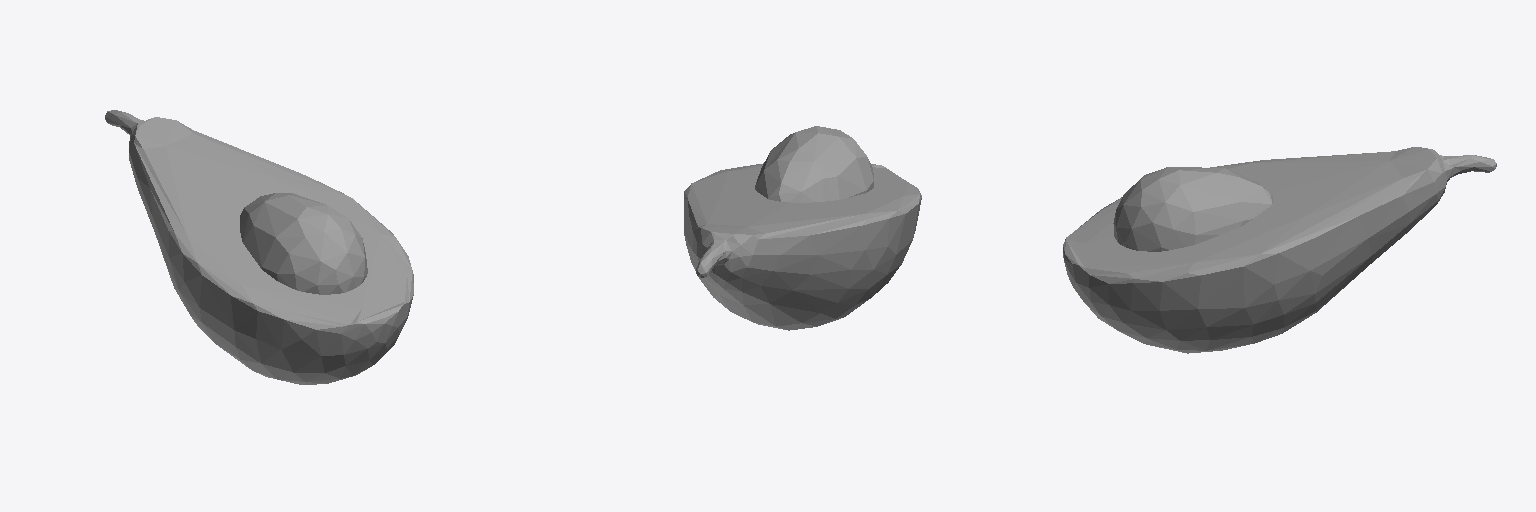
The model's file is obj slice.obj.
The picture shows the model from 3 angles: view 1: azimuth 30°, elevation 25°; view 2: azimuth 150°, elevation 25°; view 3: azimuth 270°, elevation 25°; orthographic projection.
Parts seen in each view (by area): view 1: Cylinder.009_Cylinder; view 2: Cylinder.009_Cylinder; view 3: Cylinder.009_Cylinder.
Boxes of the visible parts, x1,y1,x2,y2 form: Cylinder.009_Cylinder: [105, 110, 413, 384]; Cylinder.009_Cylinder: [684, 126, 921, 330]; Cylinder.009_Cylinder: [1063, 147, 1496, 353].
Bounding box in the file's own units: 5.06 × 4.33 × 9.78.